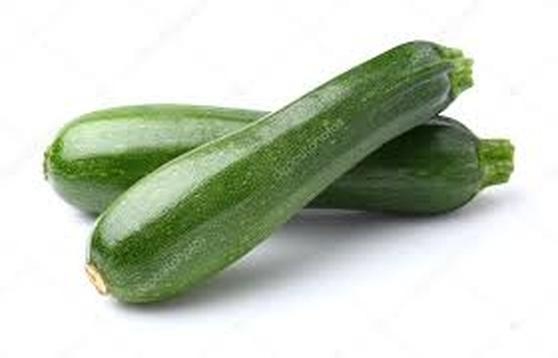zucchini: (100, 36, 475, 314)
